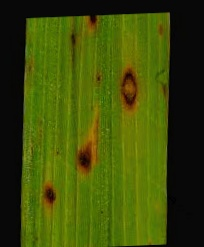Bacterial_Leaf_Blight: (71, 118, 104, 177), (114, 58, 142, 111), (31, 169, 67, 209), (154, 18, 167, 39), (87, 16, 100, 28)
